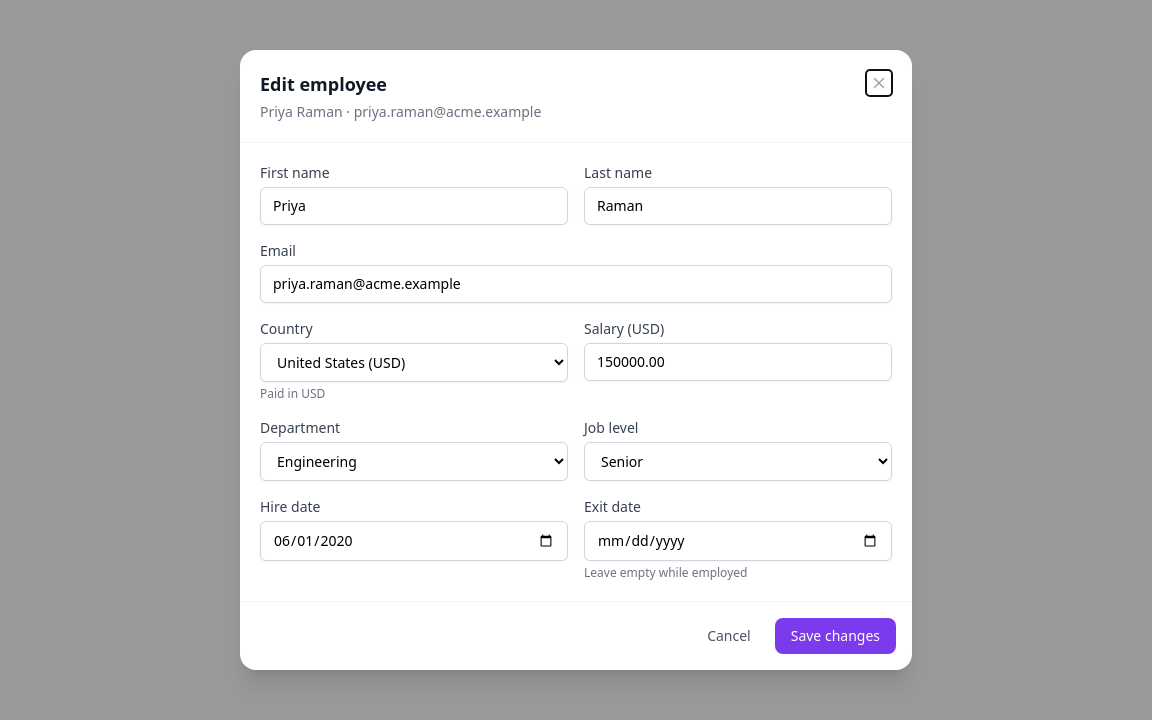
validation happens before the request › asks for an email when the field is emptied
Clear the field labelled "Email" at (576, 284), box [260,265,892,303]
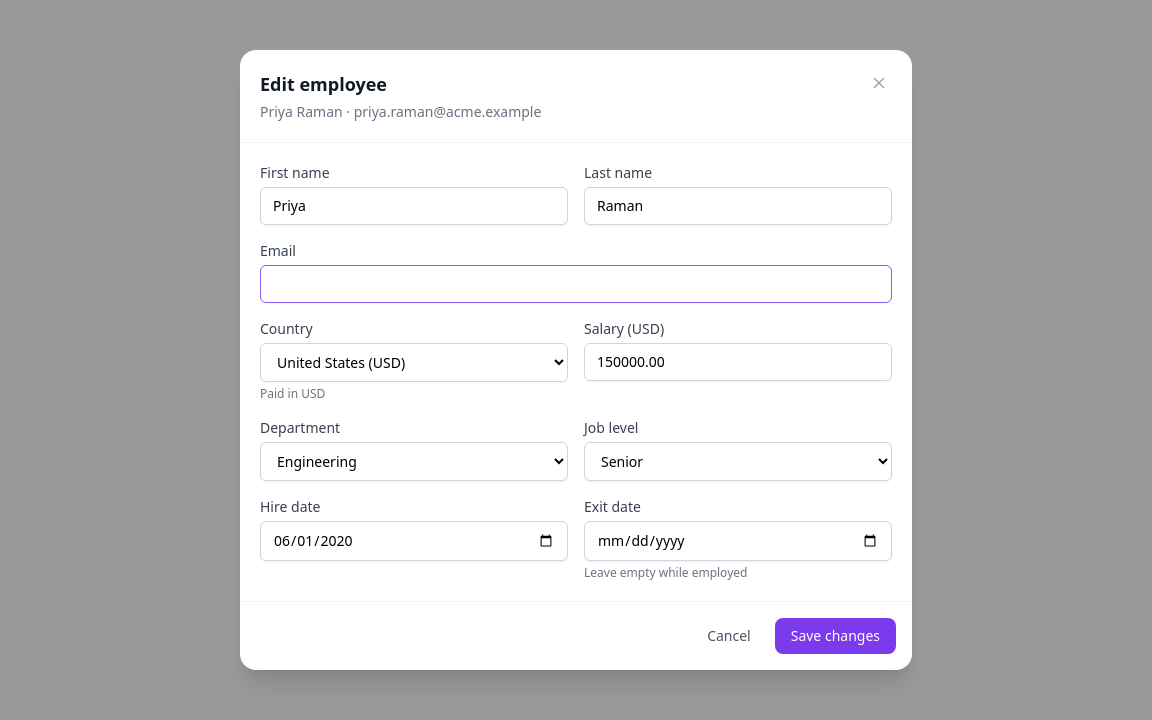
Click the button "Save changes" at (835, 636), box [775,618,896,654]
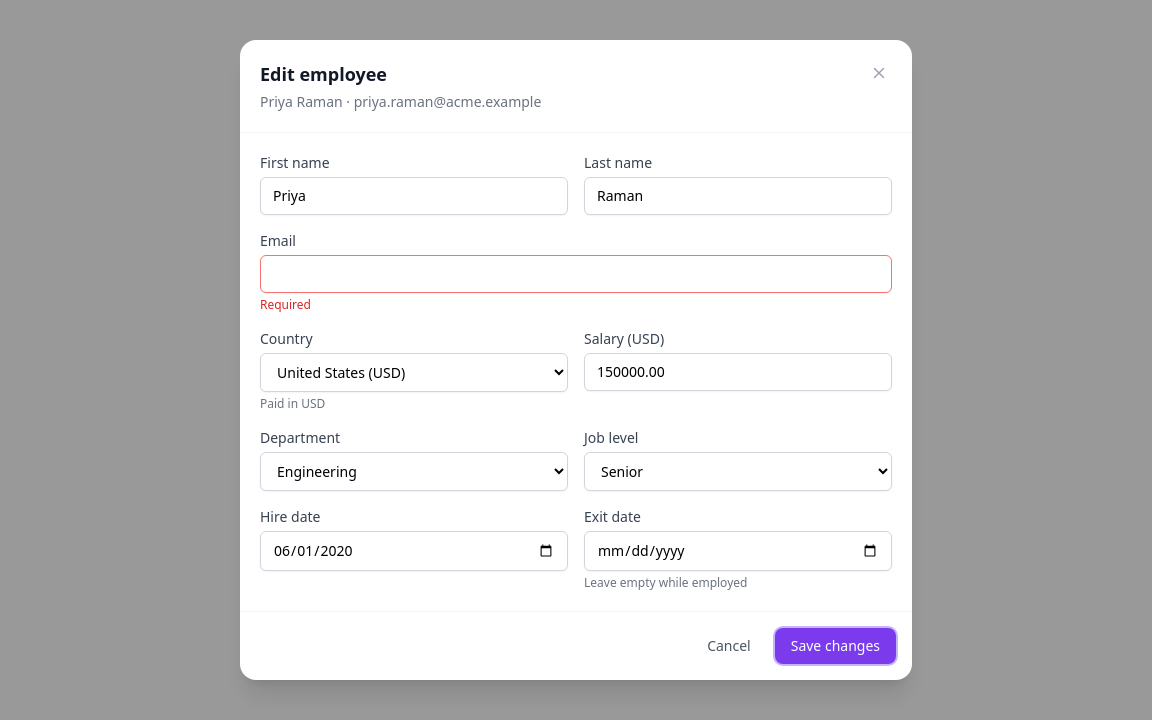
expect the text "Required" is shown: met, box [260,296,311,313]
